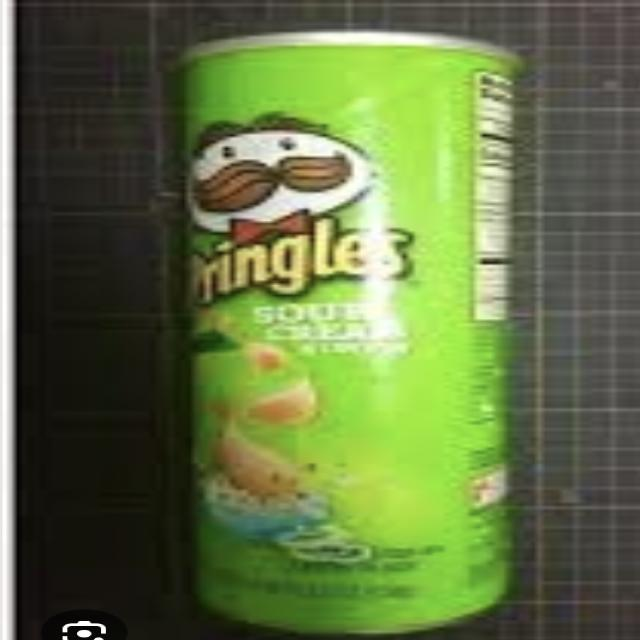biodegradable: (160, 23, 560, 636)
